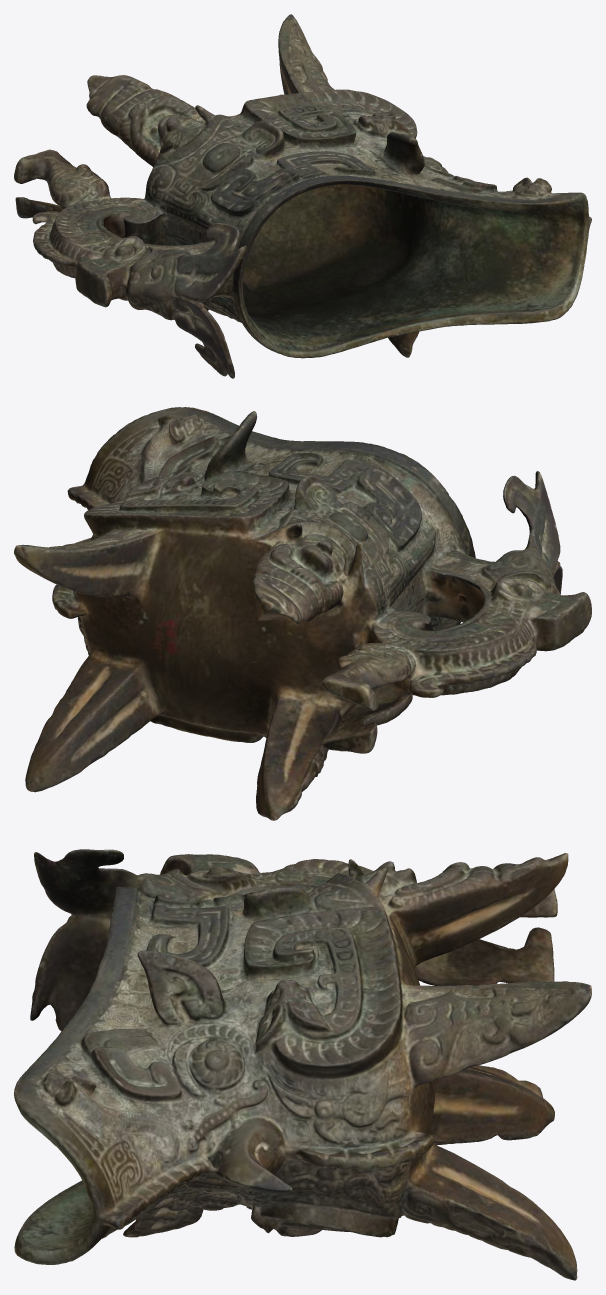
Rendered from f1961_33-part_02-x_pol-ort_texture-200k-1024-web.glb.
The picture shows the model from 3 angles, top to bottom: view 1: azimuth 30°, elevation 25°; view 2: azimuth 150°, elevation 25°; view 3: azimuth 270°, elevation 25°; orthographic projection. The views are drawn at different scales.
Size of the model in its own units: 0.2865 by 0.1285 by 0.2198.
1 material, 1 textured.
